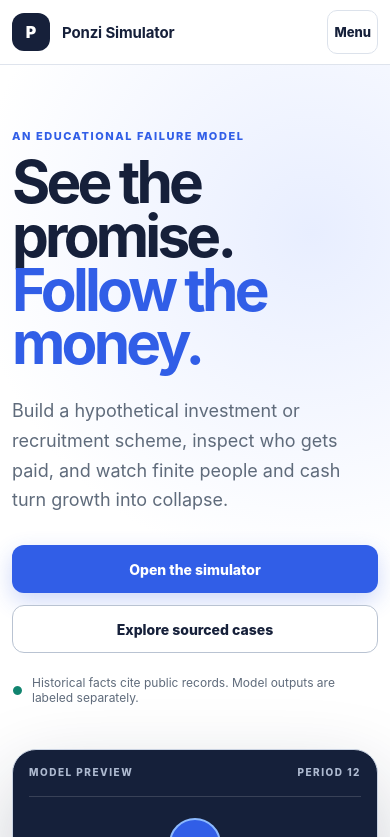
it: routed educational product › opens and closes the responsive navigation control
The image size is (390, 837).
Step 1. Click the button named "Toggle navigation" → click(353, 32), box [327,10,378,54]
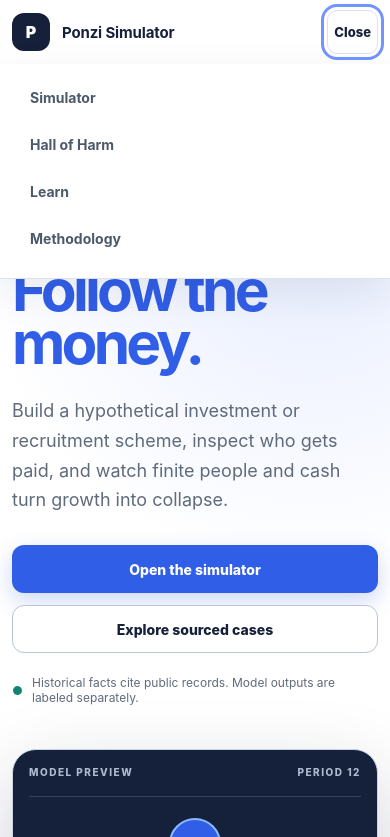
Check: the button named "Toggle navigation" is expanded
Step 2. Click the button named "Toggle navigation" → click(353, 32), box [327,10,378,54]
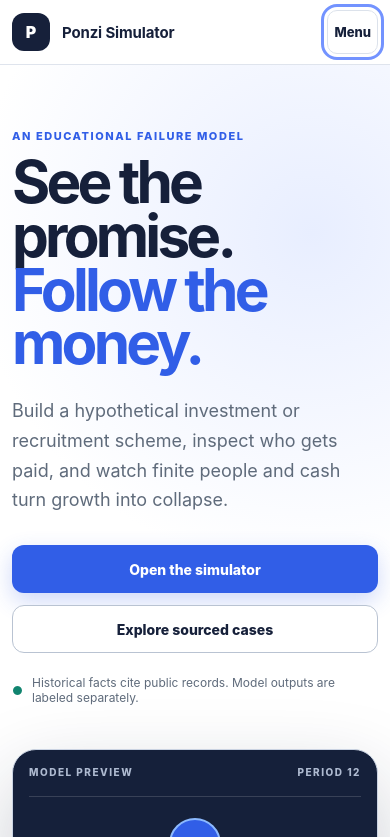
Check: the button named "Toggle navigation" is collapsed, box [327,10,378,54]
